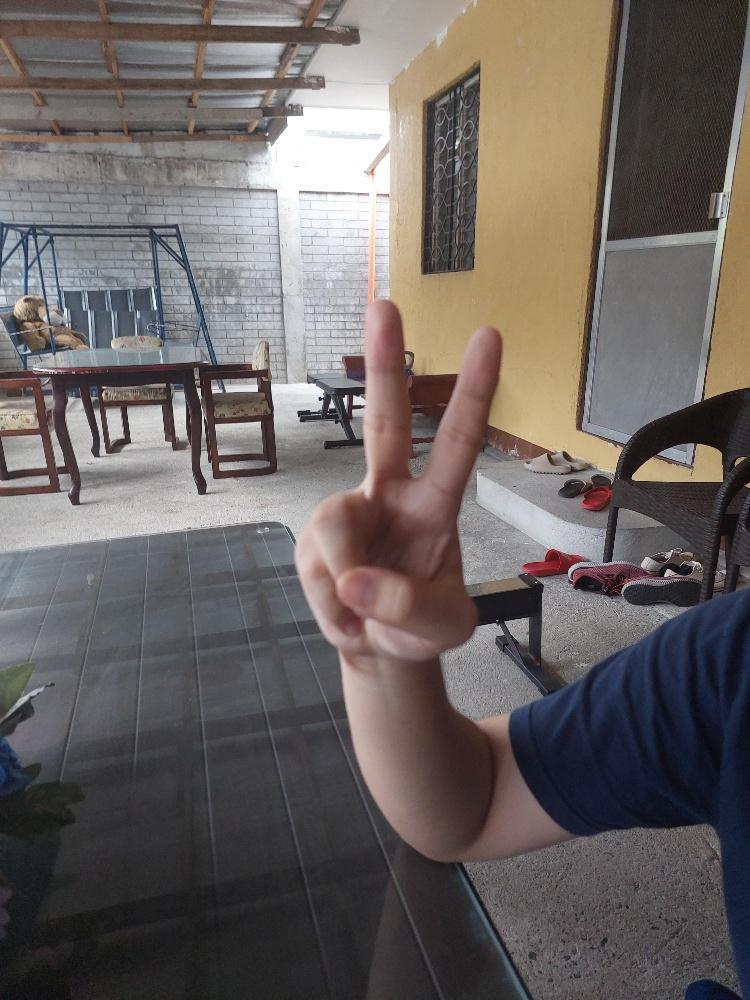v: (290, 294, 505, 668)
